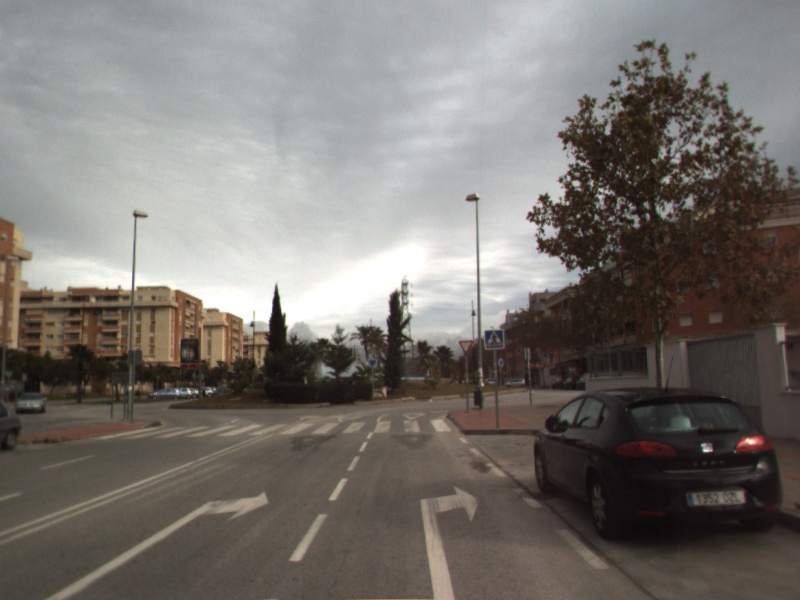RIGHT: (40, 489, 271, 600), (418, 483, 482, 600)
